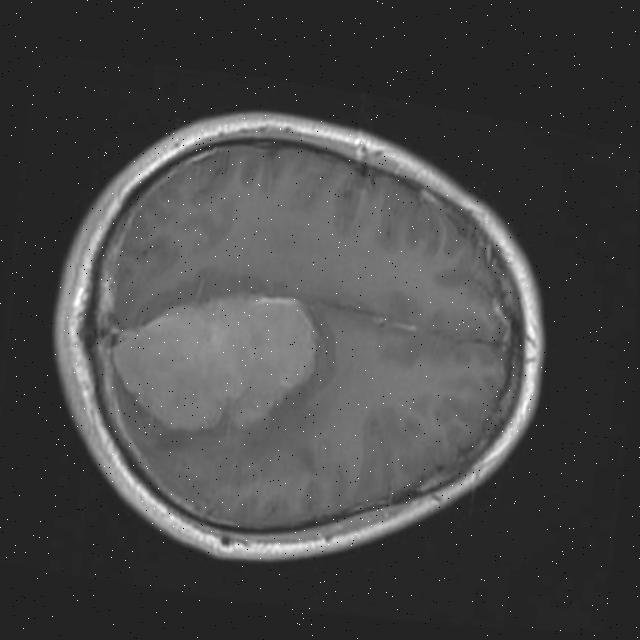Meningioma: (106, 271, 323, 451)
